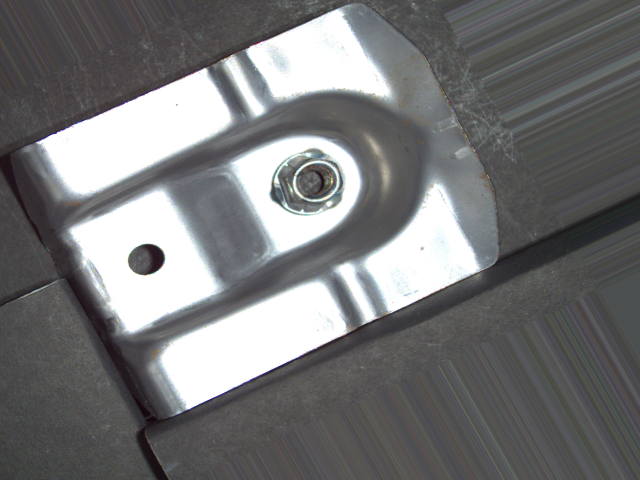good: (268, 146, 350, 216)
